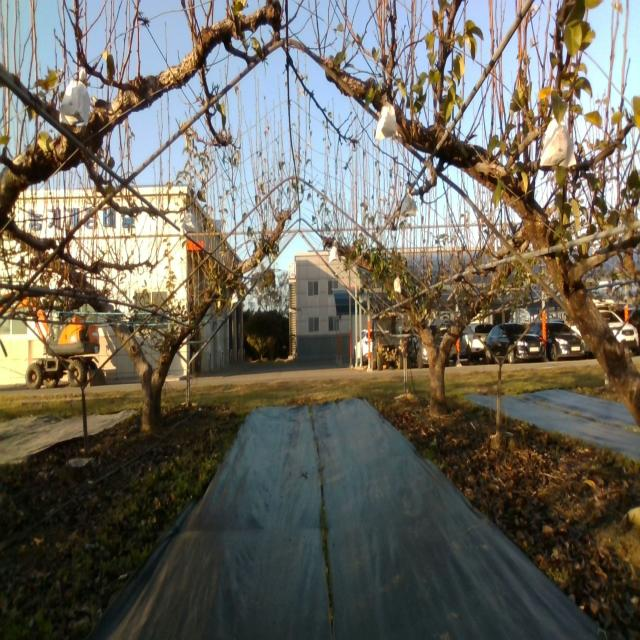pearbags: (58, 68, 92, 127), (539, 119, 577, 170), (374, 100, 398, 141), (399, 188, 419, 219), (179, 212, 197, 236), (329, 246, 340, 264)
